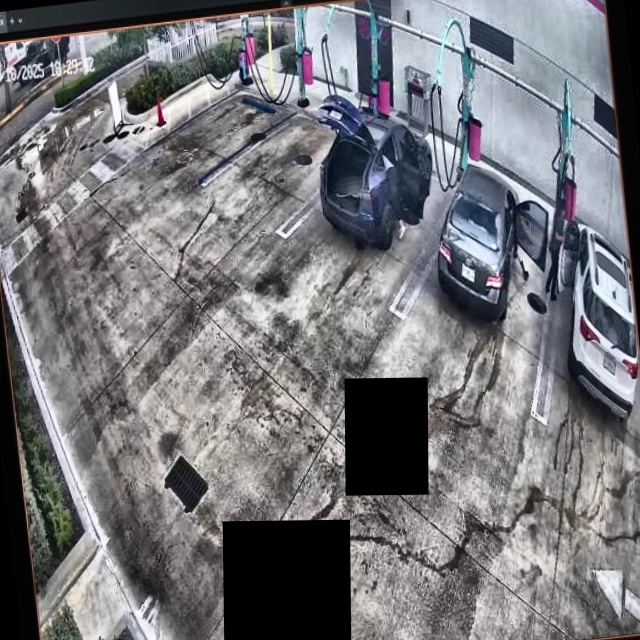Car: (310, 84, 441, 255), (427, 157, 552, 324)
